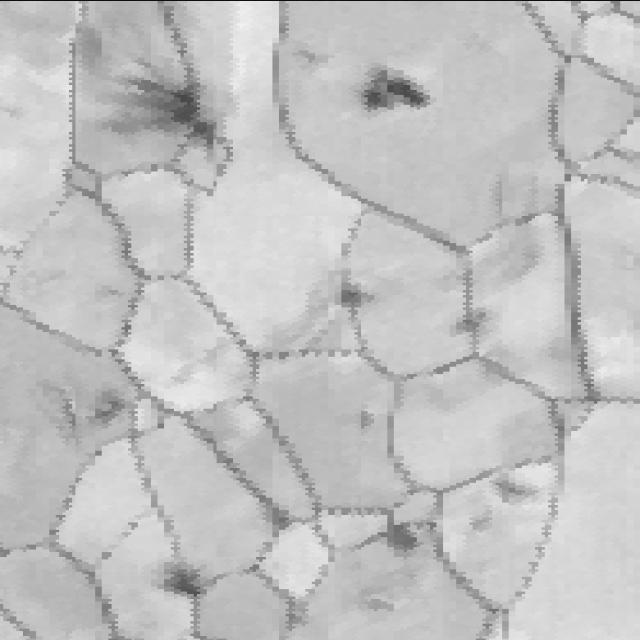good_void: (103, 52, 239, 152), (38, 382, 134, 449), (356, 65, 433, 116), (168, 557, 213, 605), (347, 579, 405, 616), (331, 270, 381, 312), (341, 395, 385, 438), (491, 470, 539, 506), (385, 516, 420, 565), (451, 304, 501, 337), (91, 271, 132, 302), (288, 43, 333, 71), (467, 500, 498, 530)
